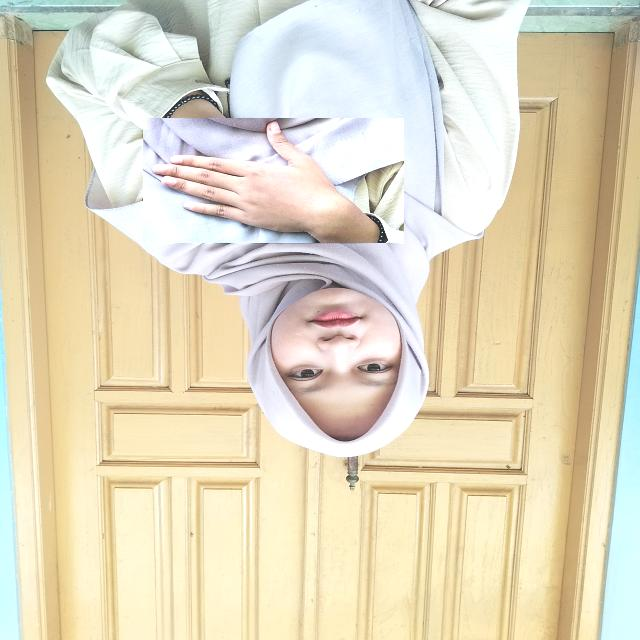tolong: (142, 118, 404, 244)
